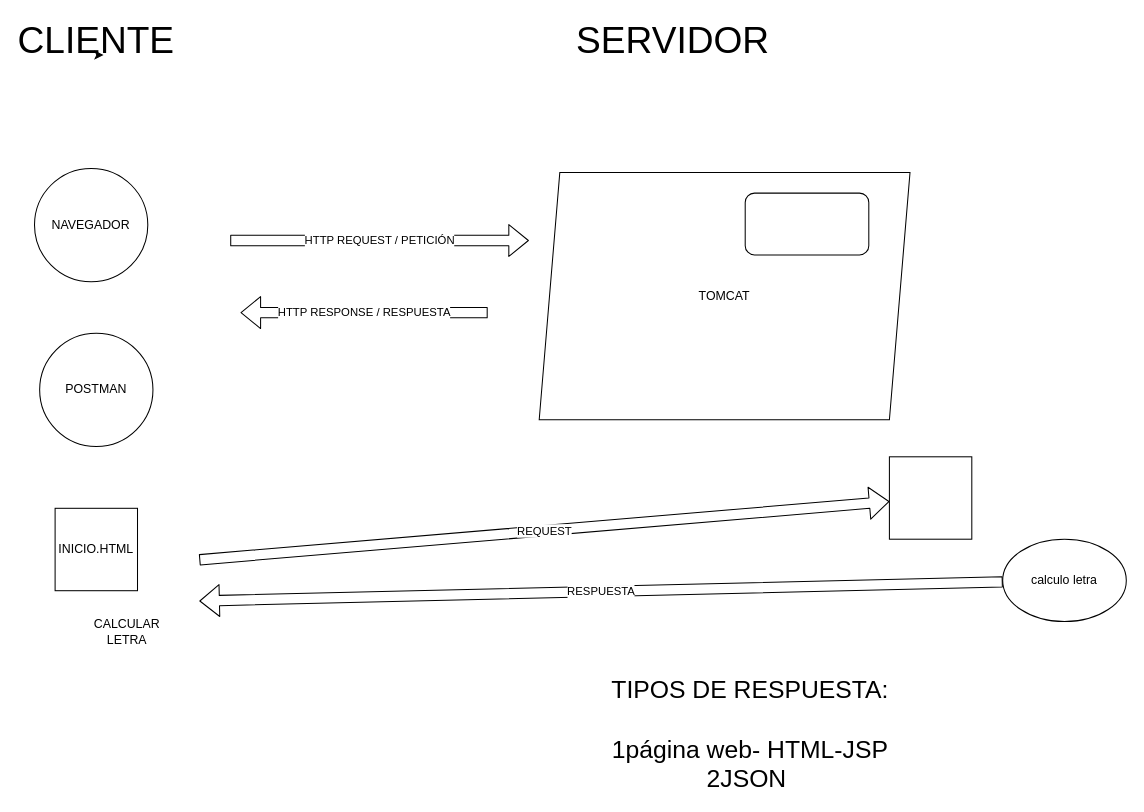
Some shapes in this 1144 by 812 pixel diagram are drawn without their labels. Here are the shapes that lost their labels. From the top down, the centre of each, then its label:
[806,223]: miprimeraappweb
[930,497]: SERVICIO WEB "SERVLET"
